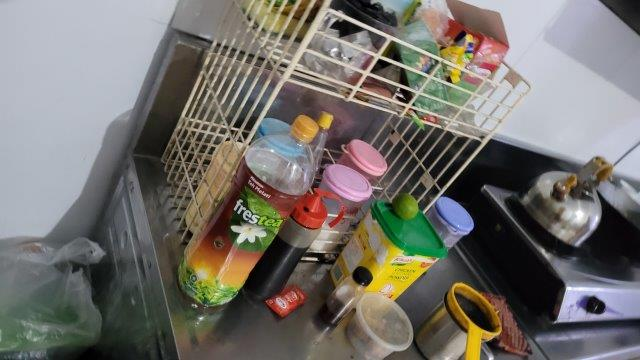botolplastik: (176, 115, 318, 313)
